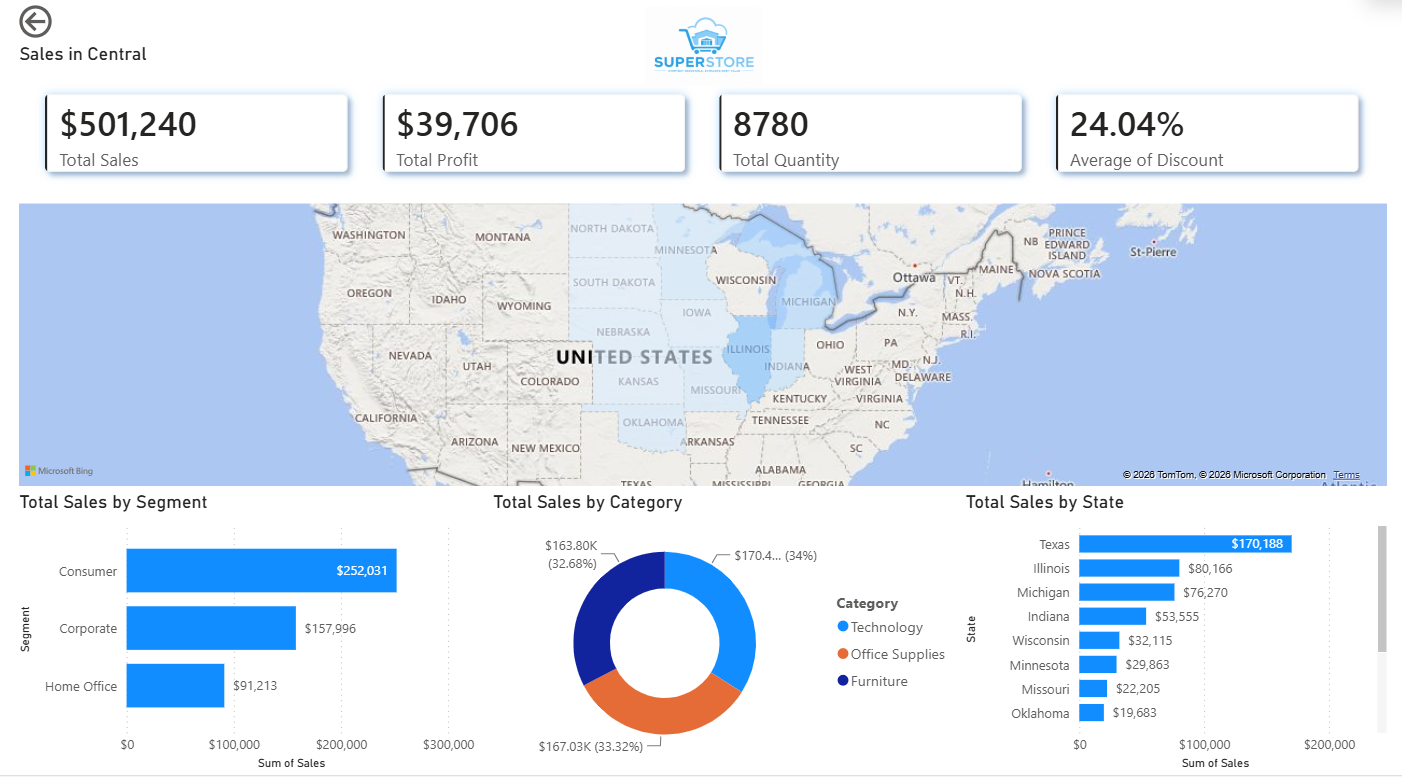

The page's visual inventory and layout, read from the dashboard file:
{"tool":"powerbi","page":{"name":"Region Detail","canvas":[1280,720],"ordinal":4},"visuals":[{"type":"actionButton","box":[0,0,100,40],"z":0},{"type":"filledMap","fields":{"Category":["Superstore.State"]},"box":[0,156.4,1280.3,300.5],"z":1000},{"type":"clusteredBarChart","title":"Total Sales by Segment","fields":{"Category":["Superstore.Segment"],"Y":["Sum(Superstore.Sales)"]},"box":[0,456.9,440.5,263.5],"z":2000},{"type":"donutChart","title":"Total Sales by Category","fields":{"Category":["Superstore.Category"],"Y":["Sum(Superstore.Sales)"]},"box":[440.5,456.9,439.1,263.5],"z":3000},{"type":"clusteredBarChart","title":"Total Sales by State","fields":{"Y":["Sum(Superstore.Sales)"],"Category":["Superstore.State"]},"box":[879.6,456.9,400.7,263.5],"z":4000},{"type":"cardVisual","fields":{"Data":["Sum(Superstore.Sales)","Sum(Superstore.Profit)","Sum(Superstore.Quantity)","Avg(Superstore.Discount)"]},"box":[0,39.8,1280.3,149.6],"z":5000},{"type":"image","box":[495.4,6.9,289.5,72.7],"z":6000}]}

Visuals, with their boxes in screenshot pixels (x1, y1, x2, y2), scaled from the page's 1280x720 canvas onto the 1402x777 screenshot:
actionButton: bbox(0, 0, 110, 43)
filledMap - Superstore.State: bbox(0, 169, 1401, 493)
"Total Sales by Segment" clusteredBarChart: bbox(0, 493, 482, 776)
"Total Sales by Category" donutChart: bbox(482, 493, 963, 776)
"Total Sales by State" clusteredBarChart: bbox(963, 493, 1401, 776)
cardVisual - Sum(Superstore.Sales) x Sum(Superstore.Profit): bbox(0, 43, 1401, 204)
image: bbox(543, 7, 860, 86)
